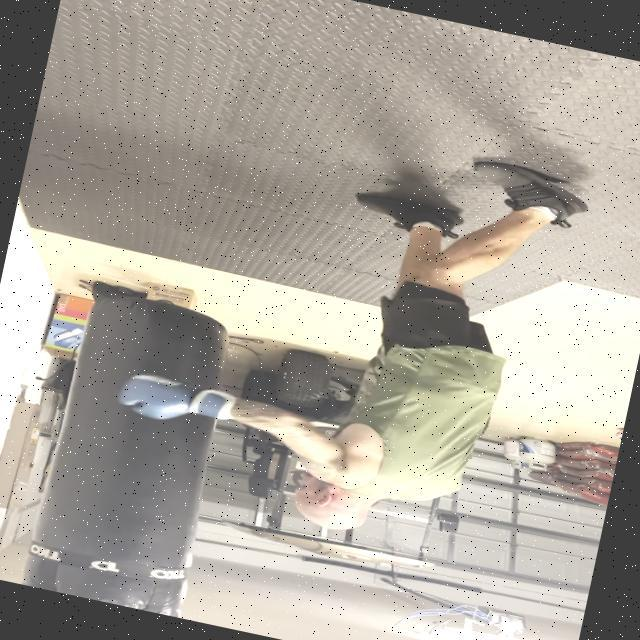bag: (0, 268, 253, 619)
hook: (77, 323, 507, 575)
